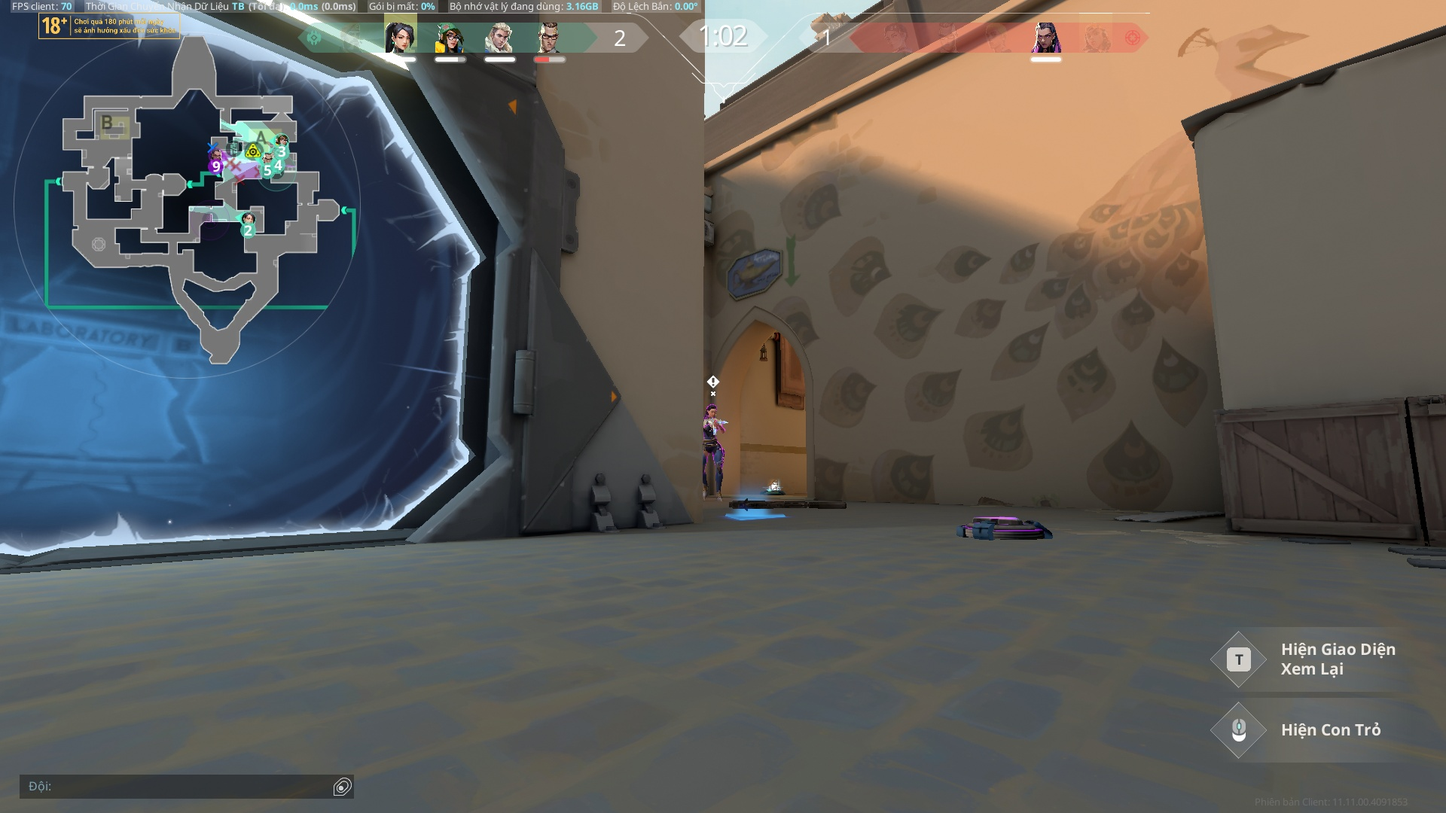body: (702, 416, 724, 443)
head: (705, 403, 718, 417)
